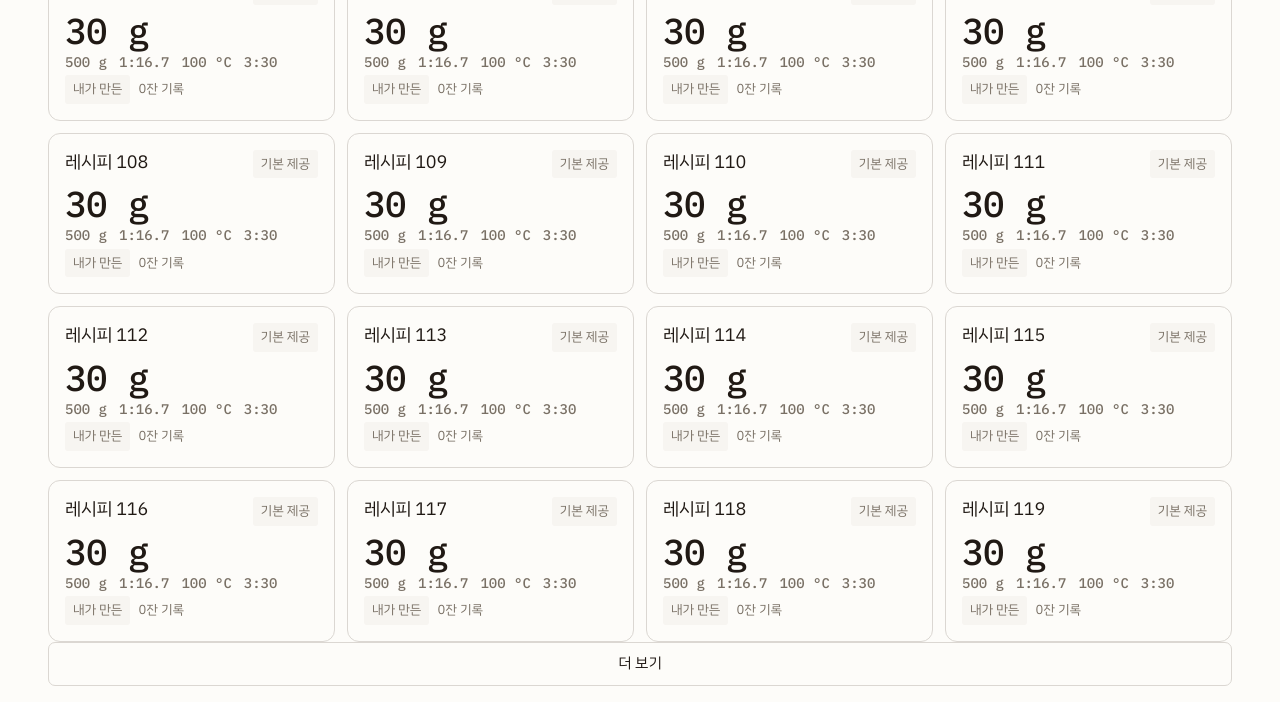
RecipesPage › AC-WEB-12 · 더 보기가 다음 페이지를 뒤에 이어붙인다
(page scrolled)
Click the button "더 보기".
click(640, 664)  # box [48,642,1232,686]
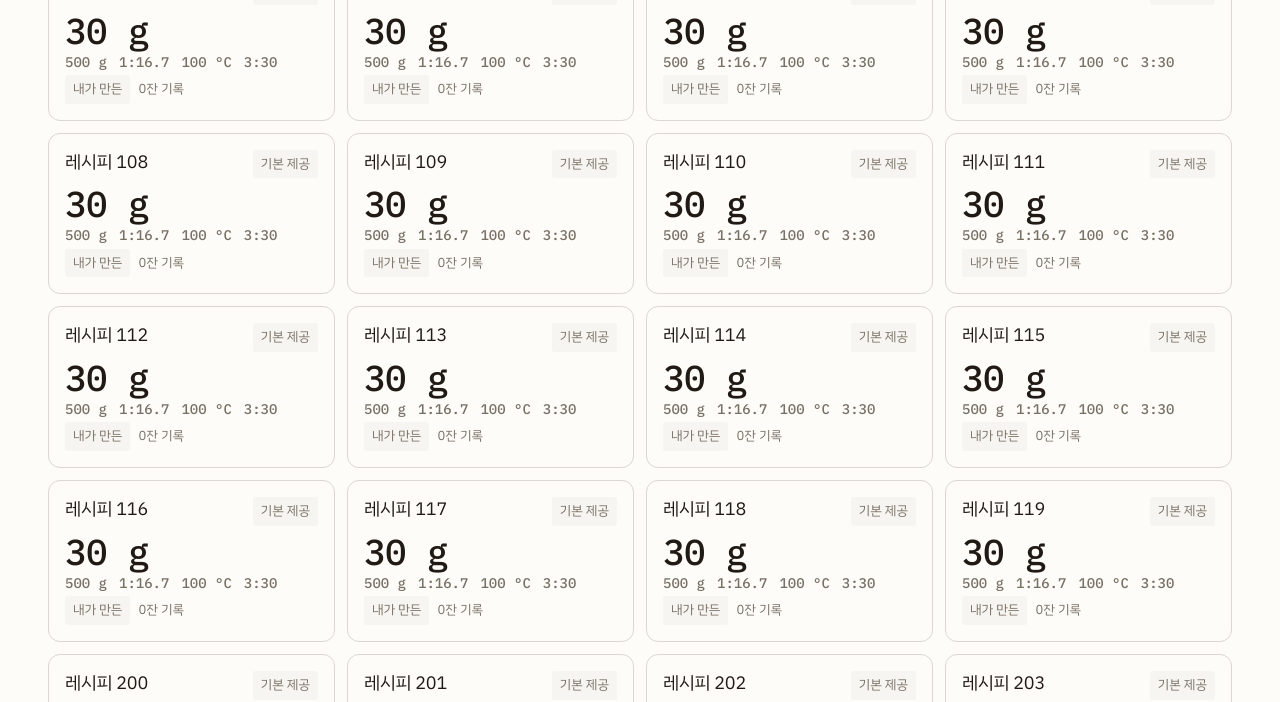
Now the button "더 보기" is gone
Now the heading "레시피 200" is shown, box [65,671,148,695]
